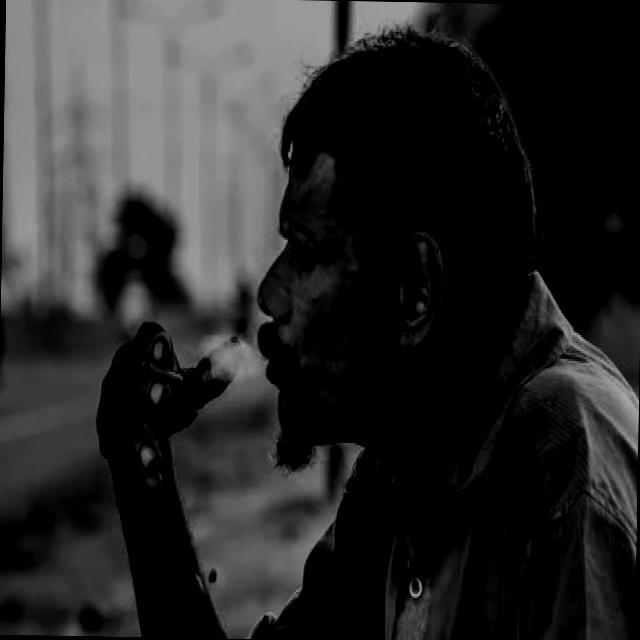smoke: (137, 351, 189, 388)
